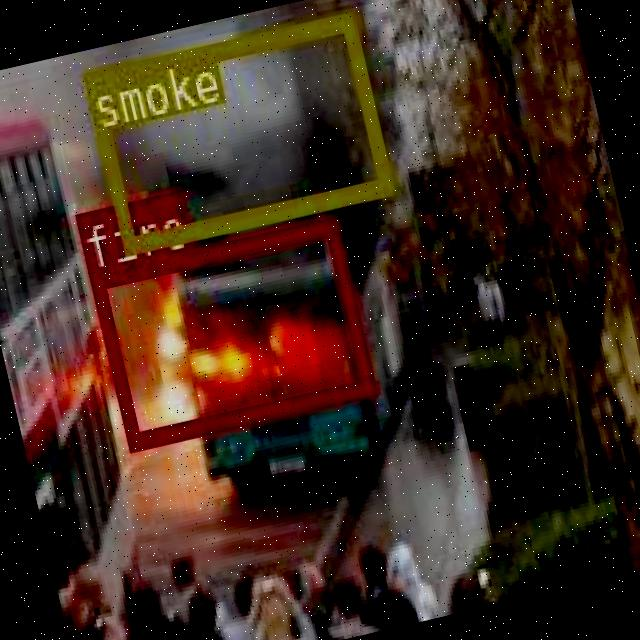fire: (85, 216, 372, 446)
smoke: (80, 10, 390, 253)
